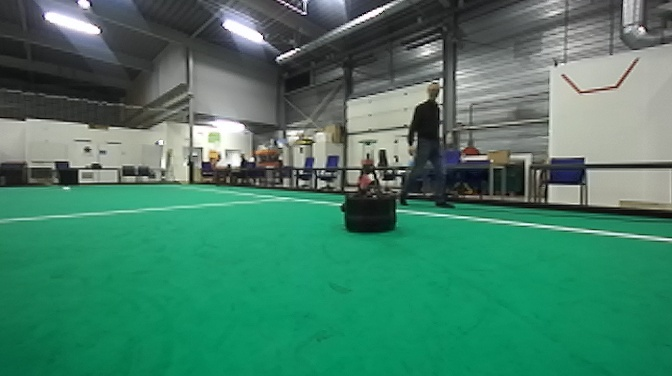human: (401, 77, 458, 215)
robot: (337, 135, 404, 238)
